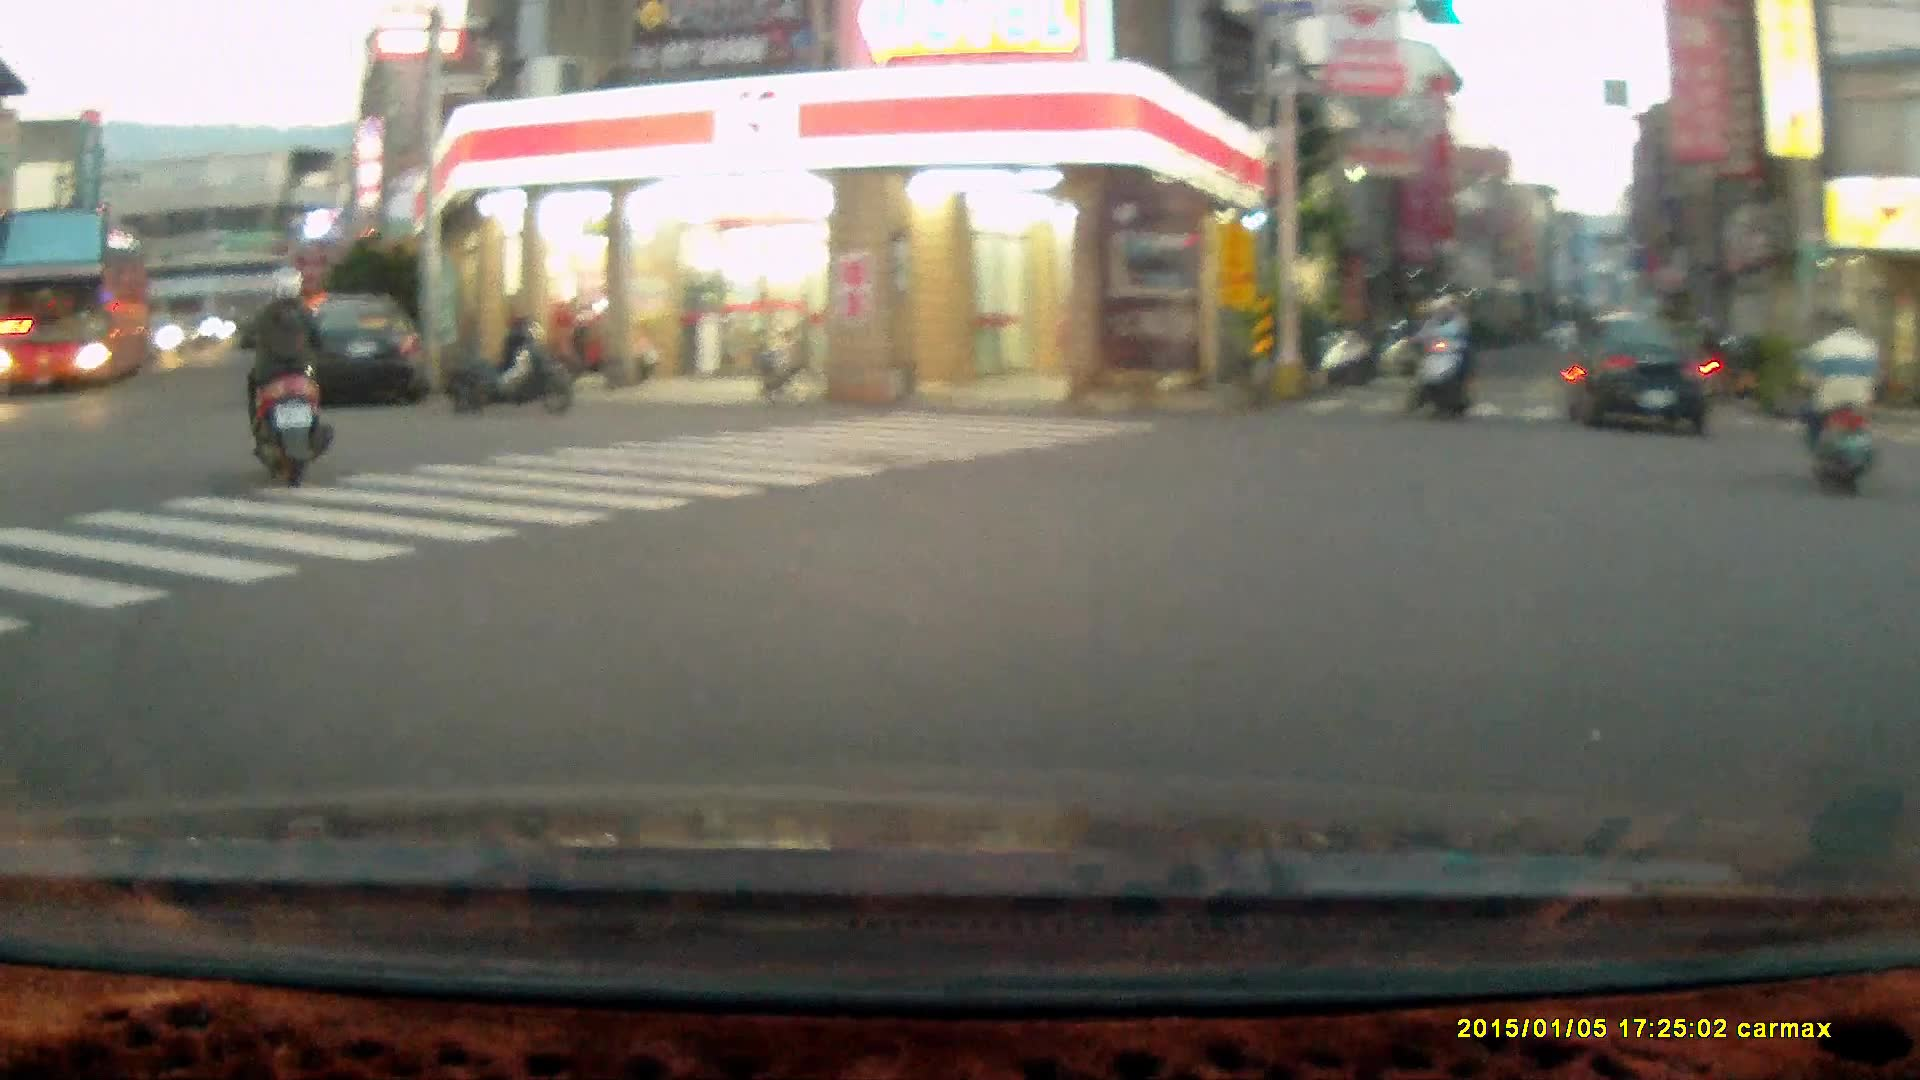rider: (237, 263, 333, 490), (1789, 302, 1883, 498), (1401, 291, 1471, 426)
vehicle: (1, 207, 158, 396), (1558, 309, 1722, 440), (290, 293, 431, 402)
